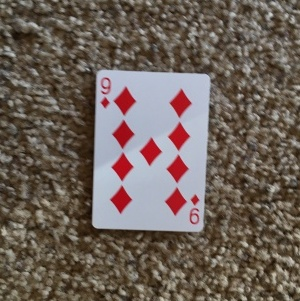card: (93, 69, 206, 232)
